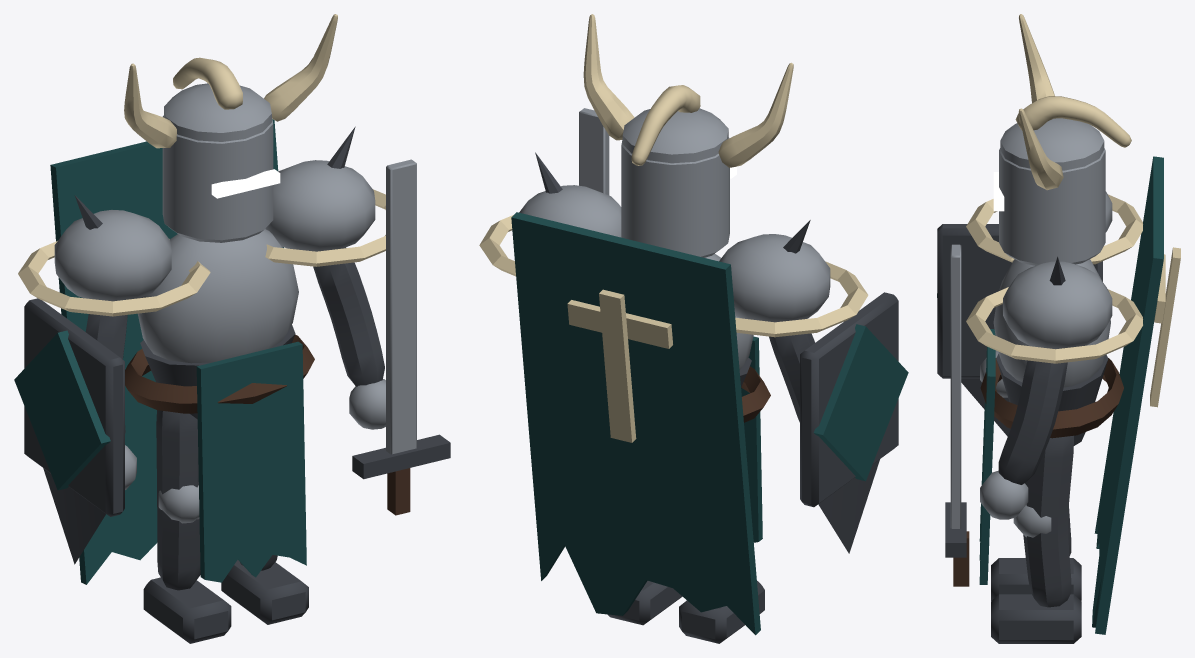
File: DM_Player.fbx
3 renders of one model, left to right at view 1: azimuth 30°, elevation 25°; view 2: azimuth 150°, elevation 25°; view 3: azimuth 270°, elevation 25°, orthographic. The views are drawn at different scales.
Visible parts, largest first — view 1: DM_Player; view 2: DM_Player; view 3: DM_Player.
Part boxes in pixels (x1,y1,x2,y2): DM_Player: [14, 14, 450, 643]; DM_Player: [479, 14, 908, 643]; DM_Player: [937, 14, 1180, 643].
Bounding box in the file's own units: 1.53 × 2.3 × 0.9122.
